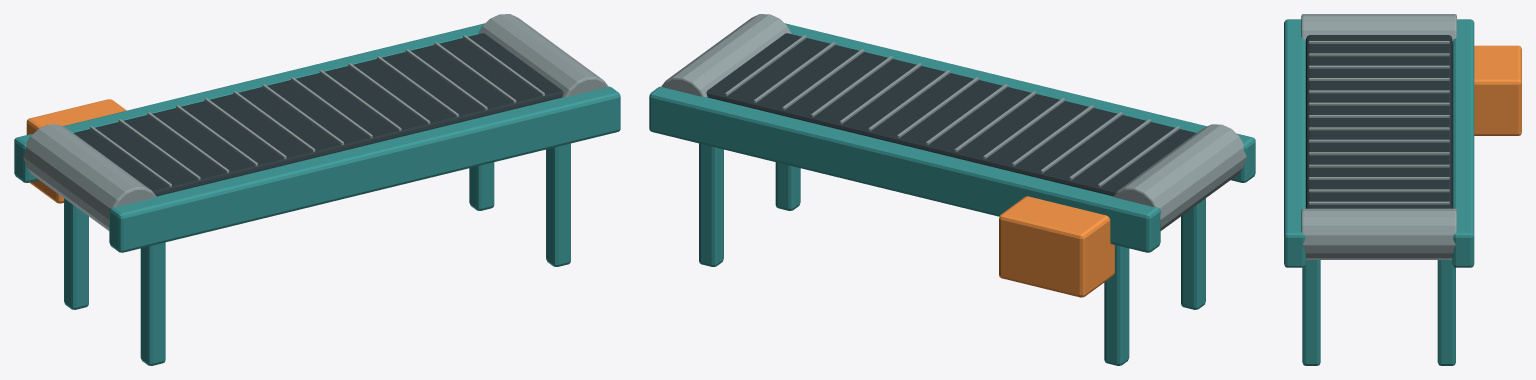
The model's file is S086_conveyor_belt.glb.
The picture shows the model from 3 angles, left to right: view 1: azimuth 30°, elevation 25°; view 2: azimuth 150°, elevation 25°; view 3: azimuth 270°, elevation 25°; orthographic projection. The views are drawn at different scales.
Visible parts, largest first — view 1: belt_surface, conveyor_side, conveyor_roller, conveyor_side.001, conveyor_roller.001, conveyor_leg, conveyor_leg.002, conveyor_leg.001, conveyor_motor, conveyor_leg.003; view 2: belt_surface, conveyor_side.001, conveyor_motor, conveyor_roller, conveyor_side, conveyor_roller.001, conveyor_leg.003, conveyor_leg.001, conveyor_leg, conveyor_leg.002; view 3: belt_surface, conveyor_roller.001, conveyor_side.001, conveyor_side, conveyor_motor, conveyor_roller, conveyor_leg.003, conveyor_leg.002, belt_seam.003, belt_seam.006, belt_seam.010, belt_seam.011 (+10 smaller).
Part boxes in pixels (<box>): belt_surface: <box>73,33,563,196</box>; conveyor_side: <box>109,86,620,252</box>; conveyor_roller: <box>23,124,156,230</box>; conveyor_side.001: <box>14,23,484,182</box>; conveyor_roller.001: <box>478,14,608,97</box>; conveyor_leg: <box>140,242,165,365</box>; conveyor_leg.002: <box>546,143,570,266</box>; conveyor_leg.001: <box>64,198,88,309</box>; conveyor_motor: <box>26,99,126,203</box>; conveyor_leg.003: <box>469,162,494,210</box>; belt_surface: <box>706,33,1196,196</box>; conveyor_side.001: <box>649,86,1160,252</box>; conveyor_motor: <box>999,196,1114,297</box>; conveyor_roller: <box>1113,124,1246,230</box>; conveyor_side: <box>785,23,1255,182</box>; conveyor_roller.001: <box>661,14,791,97</box>; conveyor_leg.003: <box>699,143,723,266</box>; conveyor_leg.001: <box>1104,245,1129,365</box>; conveyor_leg: <box>1181,198,1205,309</box>; conveyor_leg.002: <box>775,162,800,210</box>; belt_surface: <box>1306,35,1452,208</box>; conveyor_roller.001: <box>1301,208,1456,259</box>; conveyor_side.001: <box>1452,19,1474,267</box>; conveyor_side: <box>1284,19,1305,267</box>; conveyor_motor: <box>1474,45,1521,135</box>; conveyor_roller: <box>1301,14,1456,41</box>; conveyor_leg.003: <box>1437,260,1455,365</box>; conveyor_leg.002: <box>1302,260,1320,365</box>; belt_seam.003: <box>1308,65,1449,68</box>; belt_seam.006: <box>1308,102,1449,105</box>; belt_seam.010: <box>1308,152,1449,155</box>; belt_seam.011: <box>1308,164,1449,167</box>.
Size of the model in its own units: 2.8 by 0.98 by 1.3.
